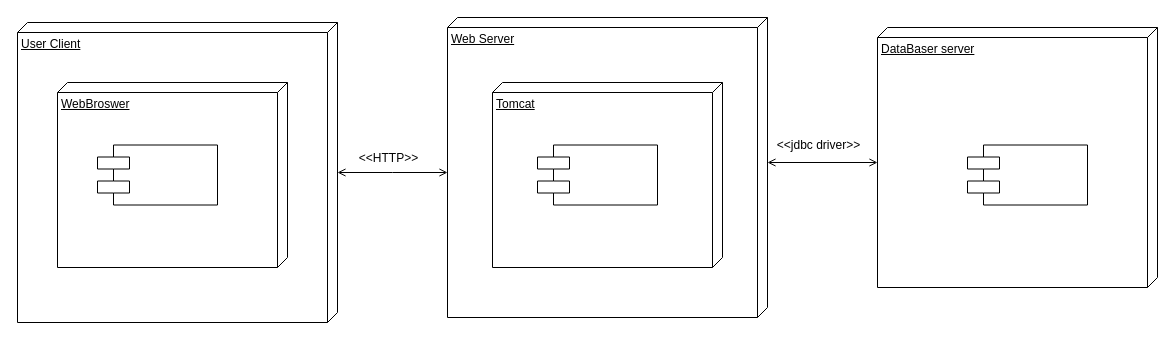
Some shapes in this 1175 by 340 pixel diagram are drawn without their labels. Here are the shapes that lost their labels. From the top down, the centre of each, then its label:
[157,174]: Application
[597,174]: Server
[1027,174]: MySql
